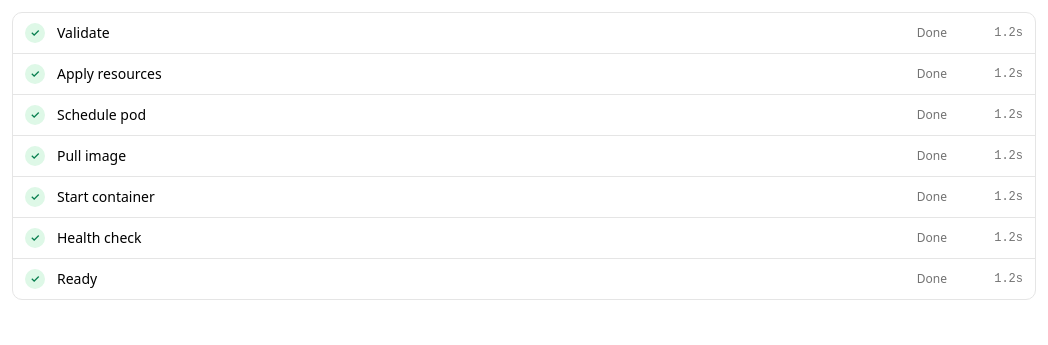
Test case: DeploySteps › toggles a step open and closed
The image size is (1048, 345).
Later steps or results of the test are not shown.
Click the button "✓ Validate Done 1.2s".
click(83, 32)  # box [13,13,1035,53]
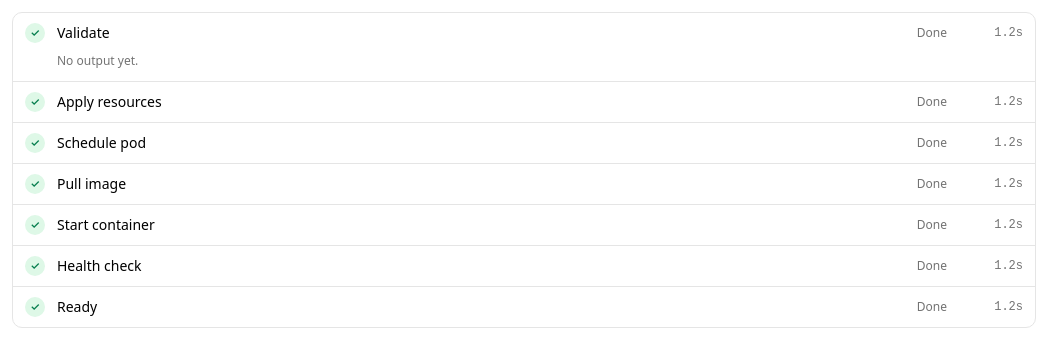
Result: the text "No output yet." is shown at [57,52,138,69]
